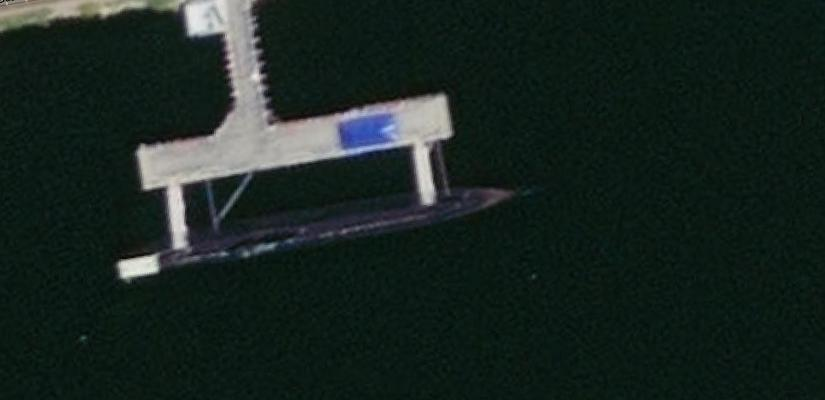submarine: (103, 179, 548, 285)
